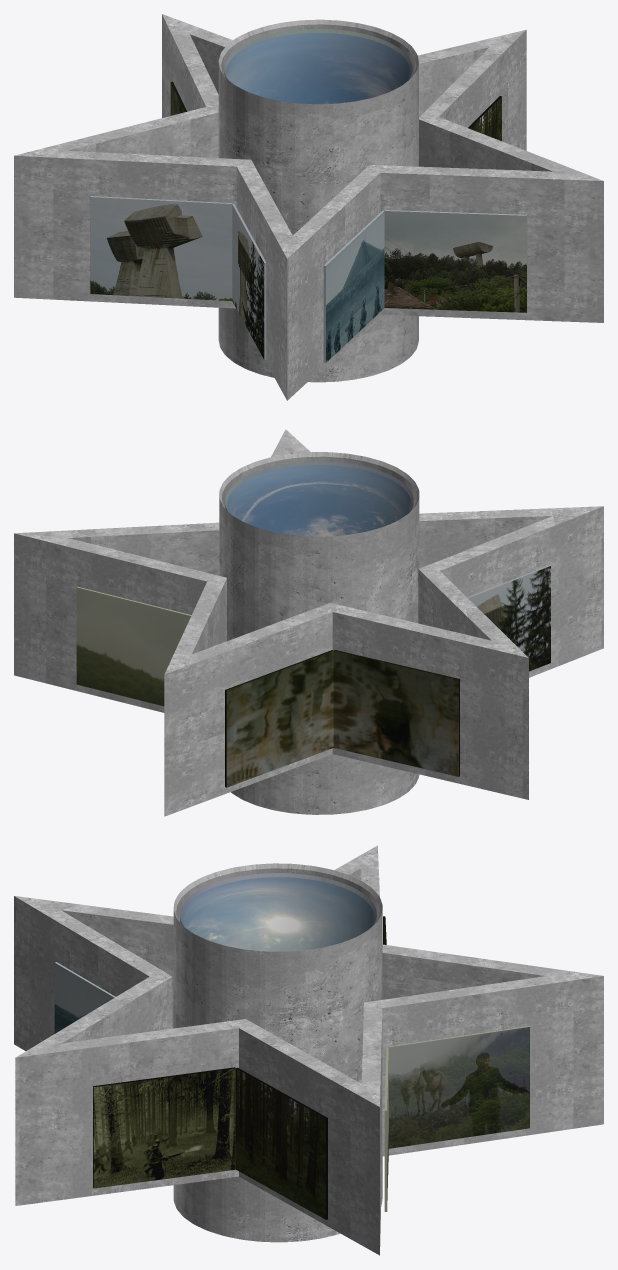
The model's file is mitrovica.glb.
3 renders of one model, top to bottom at view 1: azimuth 30°, elevation 25°; view 2: azimuth 150°, elevation 25°; view 3: azimuth 270°, elevation 25°, orthographic. The views are drawn at different scales.
Parts seen in each view (by area): view 1: neuer Stern, Circle, videotarget, Nis, Cylinder.003, kozara; view 2: neuer Stern, Circle, mostar, Cylinder.003, tjentiste, Nis; view 3: neuer Stern, Circle, kozara, tjentiste, Cylinder.003, videotarget.
Boxes of the visible parts, x1,y1,x2,y2 form: neuer Stern: [14, 14, 603, 400]; Circle: [218, 19, 418, 382]; videotarget: [323, 210, 527, 362]; Nis: [90, 196, 266, 359]; Cylinder.003: [224, 29, 412, 104]; kozara: [468, 96, 501, 141]; neuer Stern: [14, 429, 603, 816]; Circle: [219, 452, 419, 814]; mostar: [225, 650, 459, 787]; Cylinder.003: [225, 461, 413, 536]; tjentiste: [76, 586, 191, 706]; Nis: [467, 565, 550, 671]; neuer Stern: [14, 845, 603, 1255]; Circle: [173, 863, 382, 1242]; kozara: [93, 1067, 327, 1219]; tjentiste: [384, 1026, 529, 1211]; Cylinder.003: [180, 873, 376, 951]; videotarget: [54, 962, 115, 1033].
Size of the model in its own units: 13.96 by 7.22 by 13.29.
Materials: 8 (8 with a texture image).
